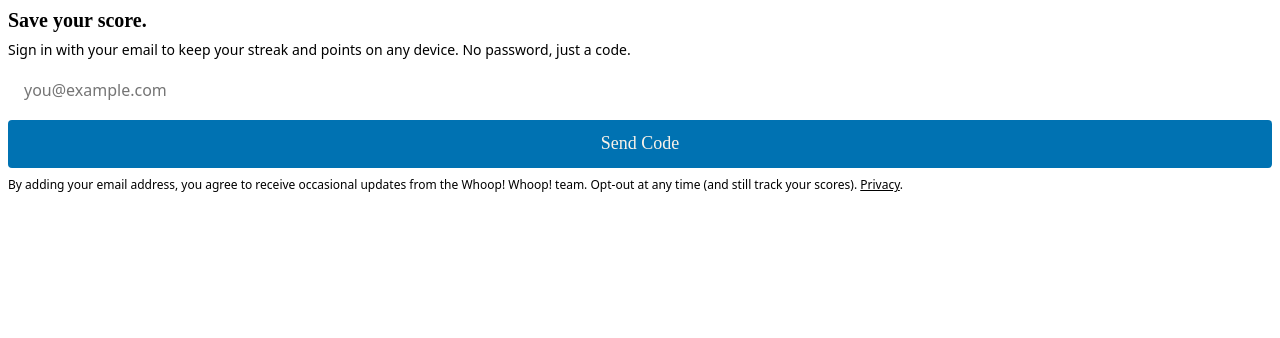
optional sign-in › keeps the resend control available after a generic send failure
Type "a@b.co" into the field named "Email address" at (640, 90), box [8,68,1272,112]
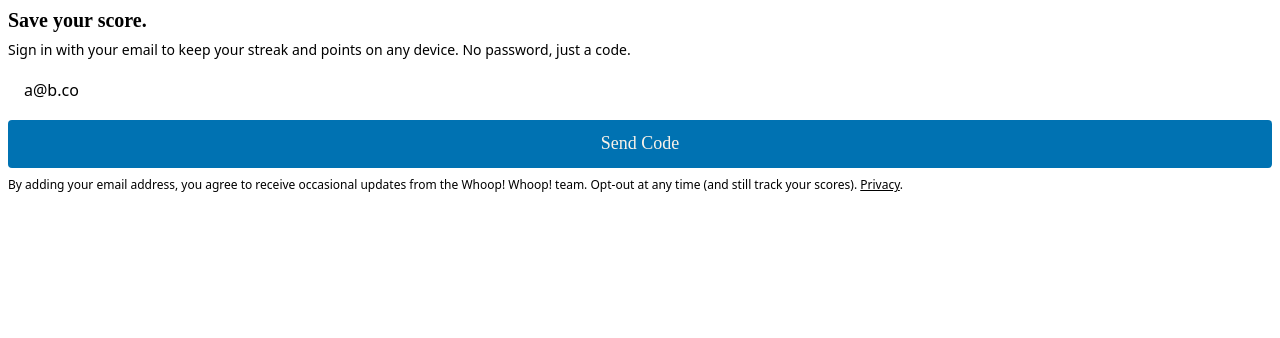
Click the button "Send Code" at (640, 144), box [8,120,1272,168]
Wait 60000 ms
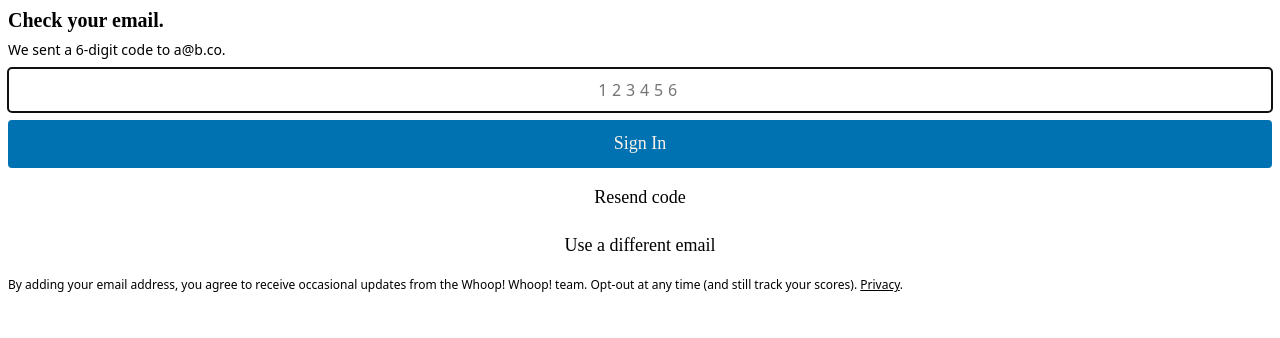
Click the button "Resend code" at (640, 198), box [584,176,696,220]
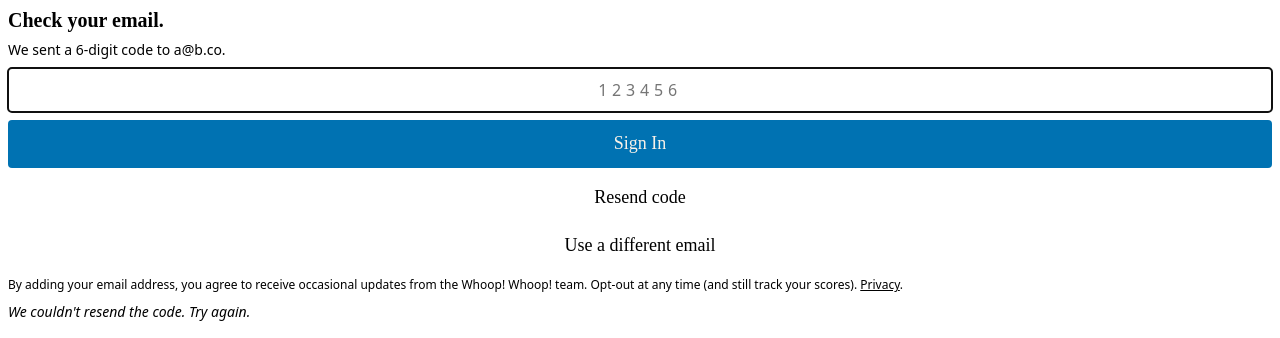
Expected: the button "Resend code" is enabled, [584,176,696,220]
Expected: the message reads "We couldn't resend the code. Try again.", [8,302,250,321]
